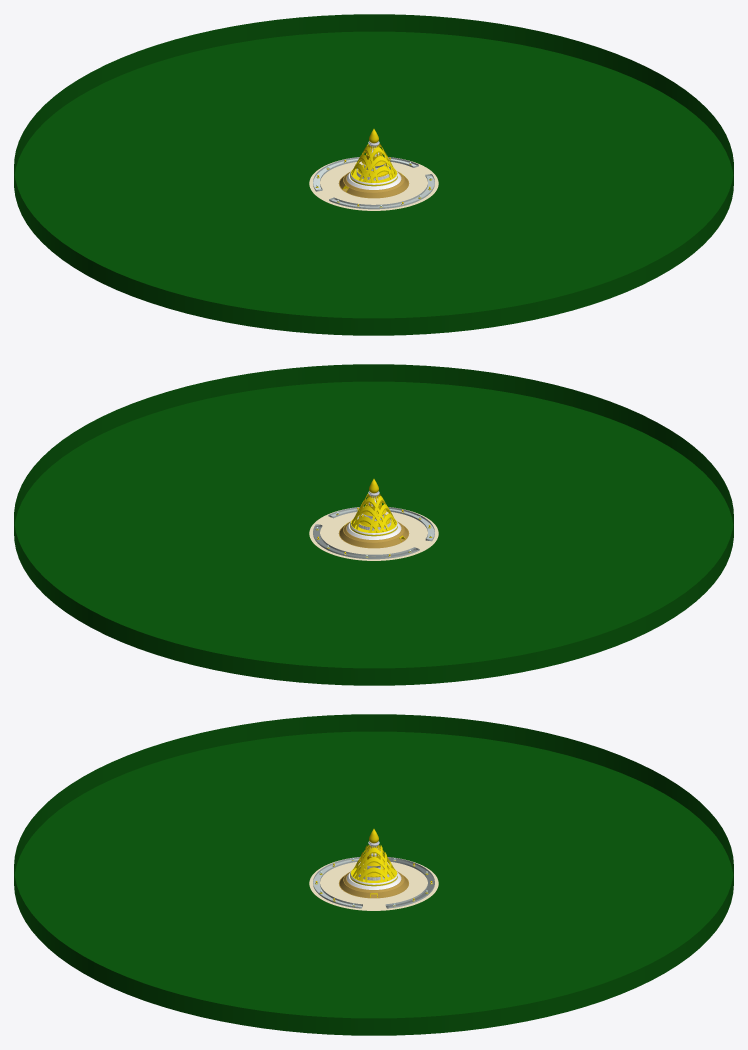
The picture shows the model from 3 angles, top to bottom: view 1: azimuth 30°, elevation 25°; view 2: azimuth 150°, elevation 25°; view 3: azimuth 270°, elevation 25°; orthographic projection.
Parts seen in each view (by area): view 1: ground01, JDwall, ground02, Build, group1; view 2: ground01, JDwall, ground02, Build, group1; view 3: ground01, JDwall, ground02, Build, group1.
Part boxes in pixels (<box>): ground01: <box>14,31,733,318</box>; JDwall: <box>14,14,733,335</box>; ground02: <box>309,157,438,210</box>; Build: <box>344,146,403,192</box>; group1: <box>351,143,396,182</box>; ground01: <box>14,381,733,668</box>; JDwall: <box>14,364,733,685</box>; ground02: <box>309,507,438,560</box>; Build: <box>344,496,403,542</box>; group1: <box>351,493,396,532</box>; ground01: <box>14,731,733,1018</box>; JDwall: <box>14,714,733,1035</box>; ground02: <box>309,857,438,910</box>; Build: <box>344,846,403,892</box>; group1: <box>352,845,395,882</box>.
Size of the model in its own units: 9.29 by 0.8093 by 9.29.
